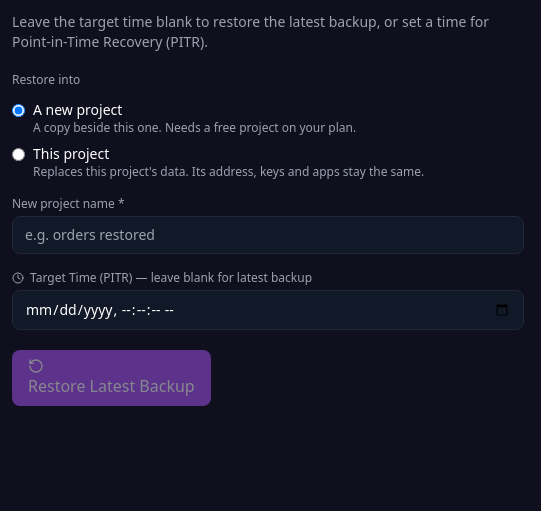
Test: RestoreForm on a plan at its project limit › a rolled-back replace shows its reason
Click the radio button labelled "This project": click(18, 154) [12,148,25,161]
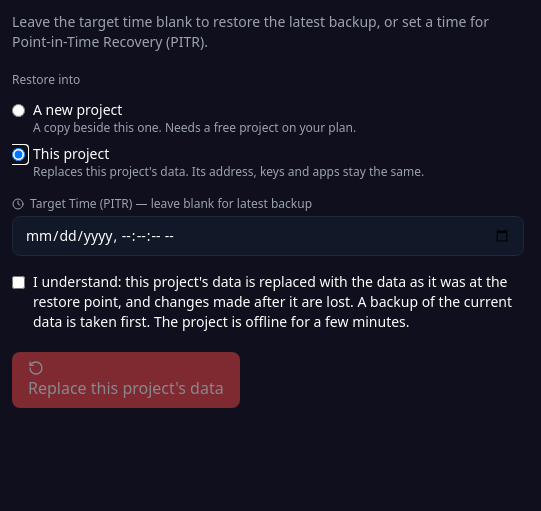
Click the checkbox labelled "I understand": click(18, 282) [12,276,25,289]
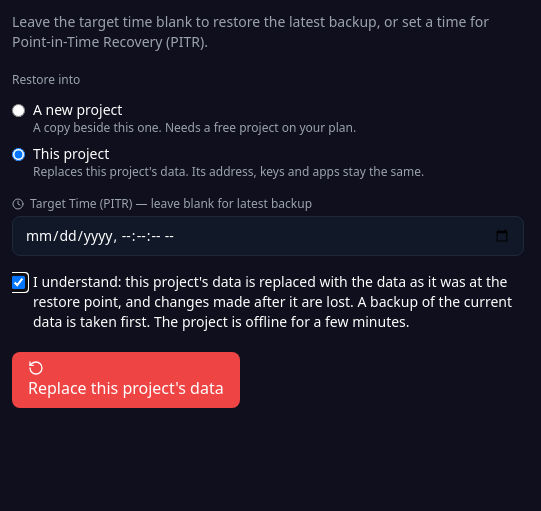
Click the button "Replace this project's data": click(126, 380) [12,352,240,408]
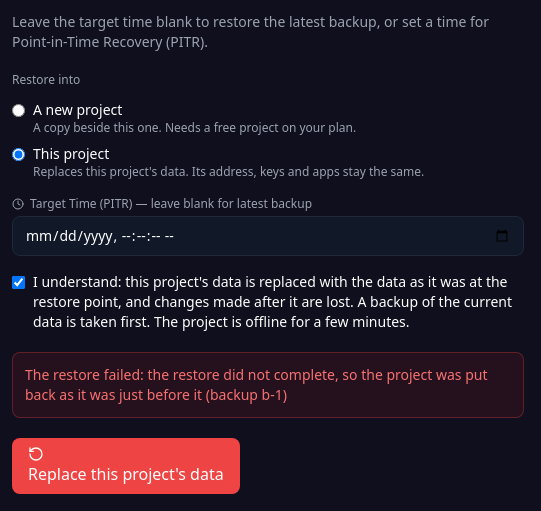
Now the text "put back as it was just before it" is shown, box [25,365,488,404]
